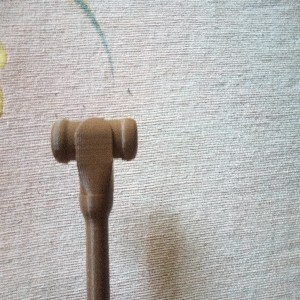palu: (50, 116, 138, 300)
